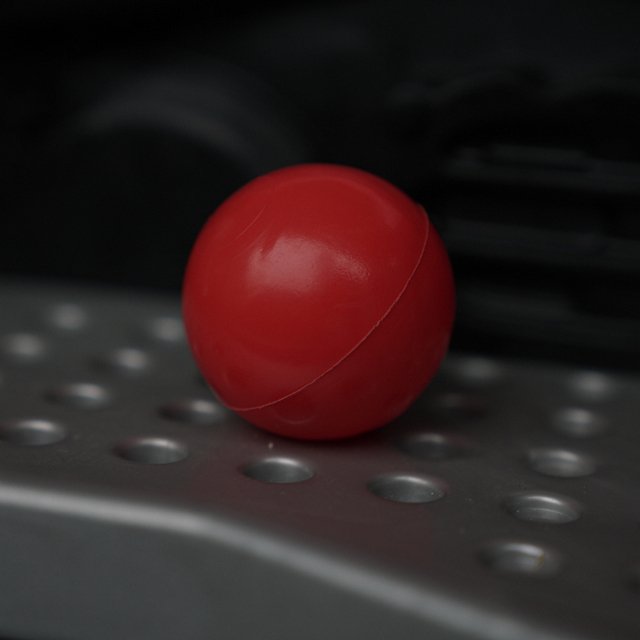Ball: (184, 163, 459, 444)
